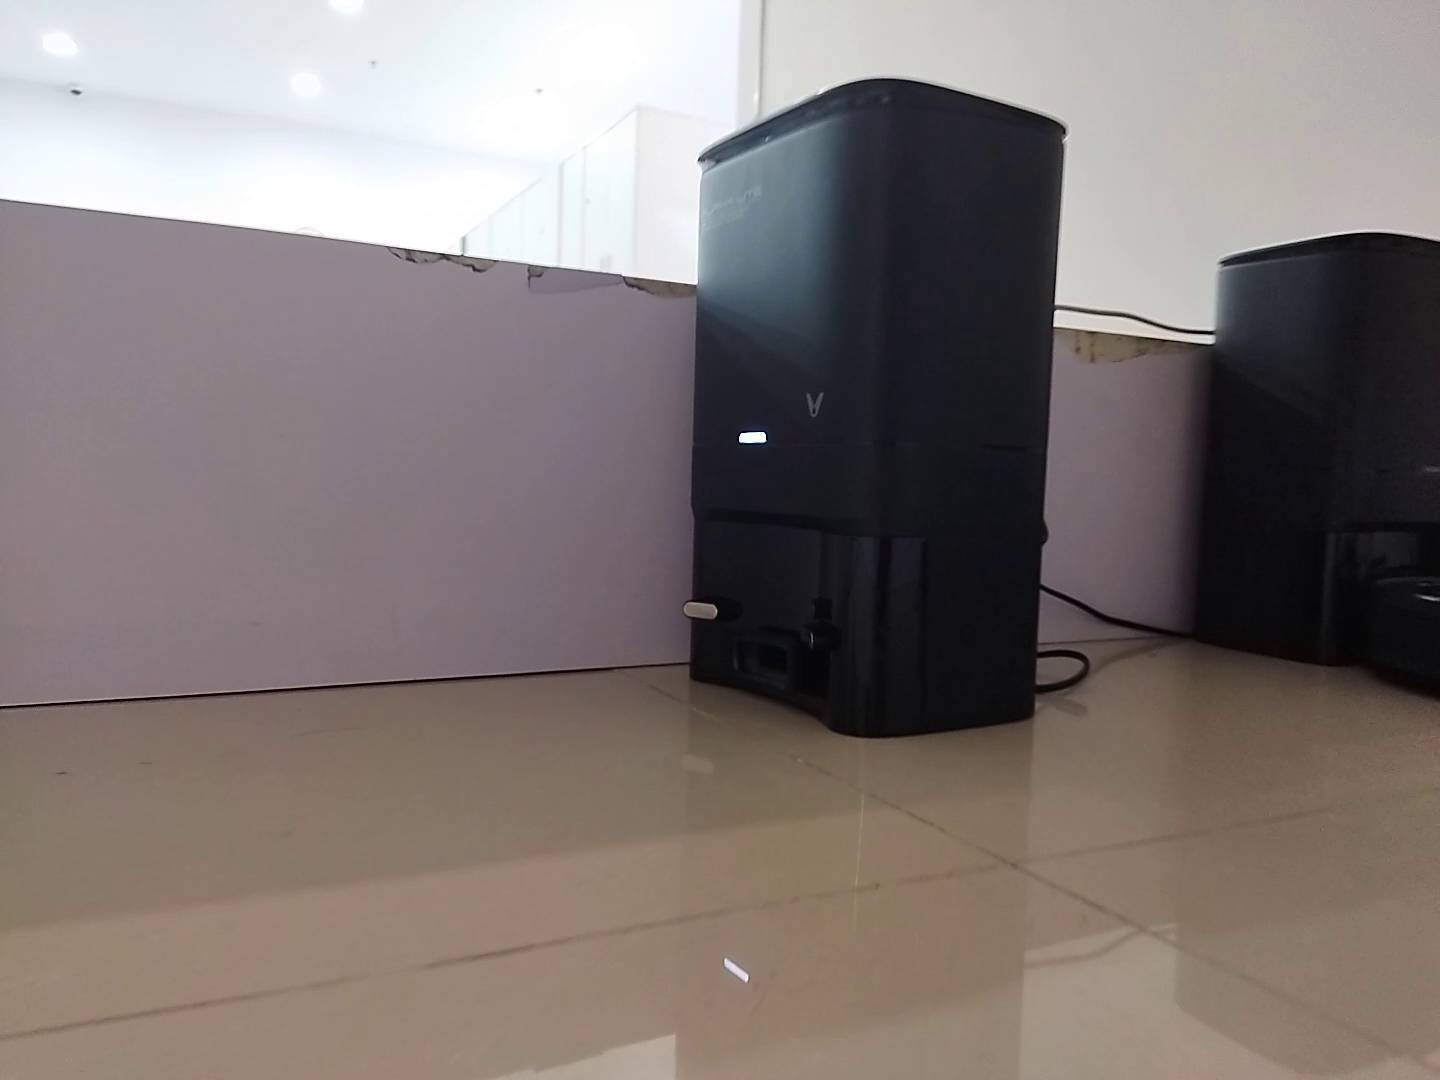dust collecting barrel: (683, 78, 1067, 742), (1192, 230, 1440, 670)
